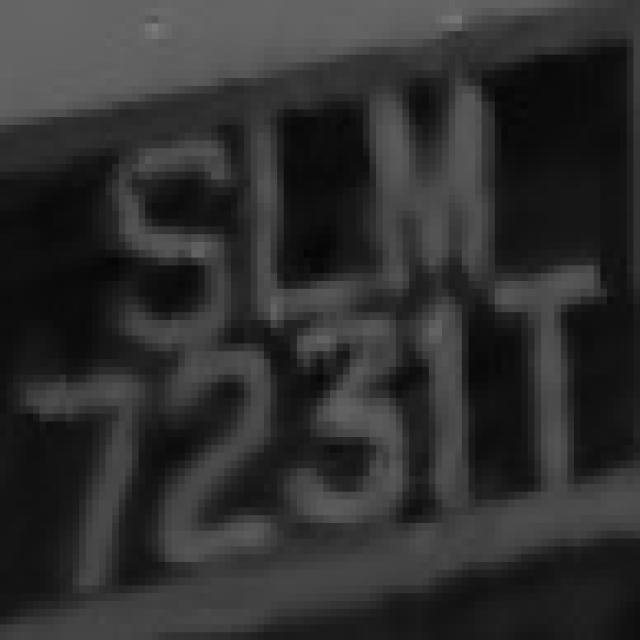1: (402, 304, 502, 586)
2: (158, 344, 277, 586)
3: (257, 296, 409, 546)
7: (20, 336, 138, 601)
L: (224, 109, 363, 351)
M: (369, 39, 502, 297)
S: (99, 125, 237, 375)
T: (468, 242, 614, 523)
